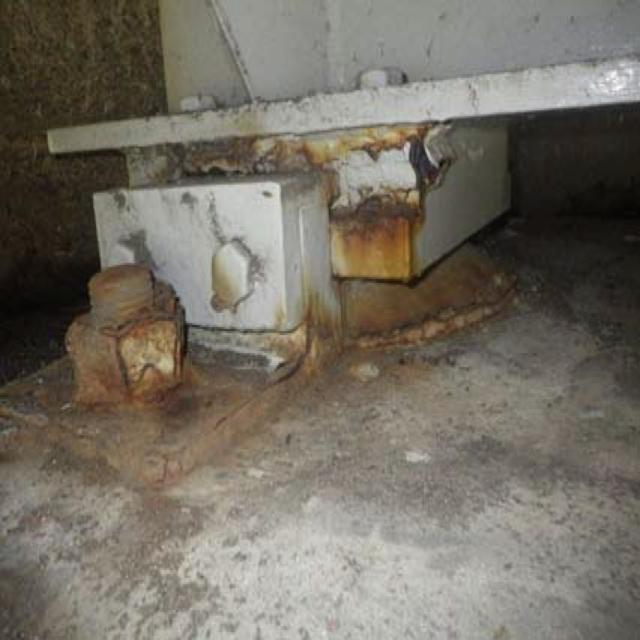corrosion: (40, 144, 450, 453)
